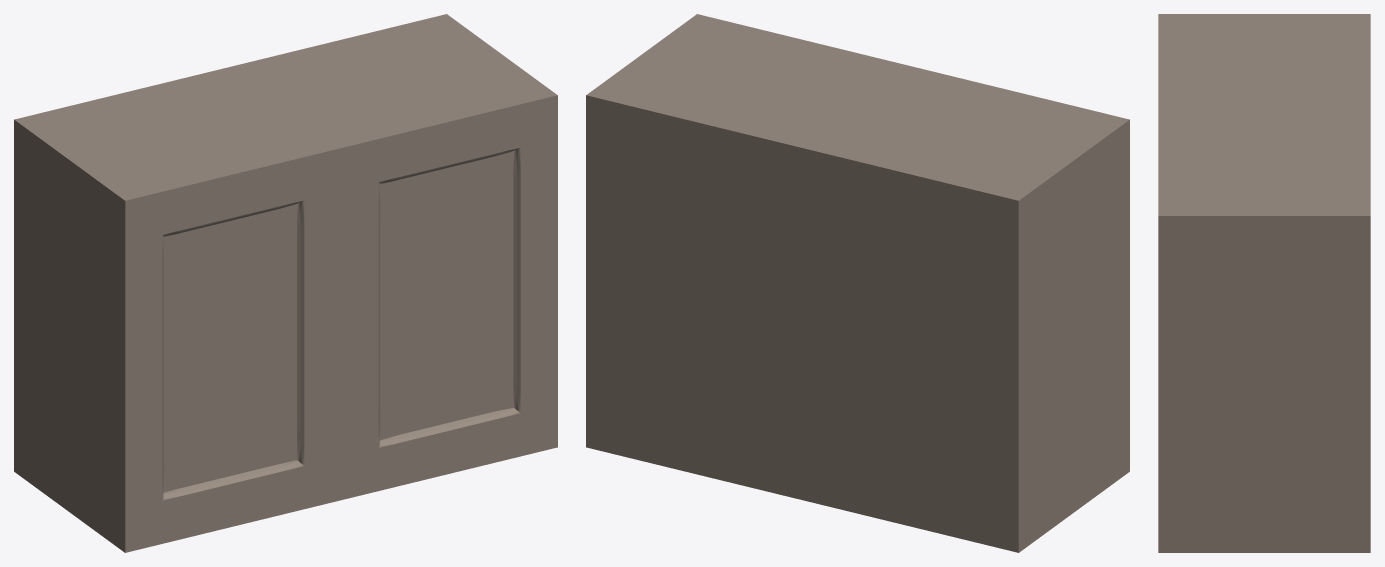
File: Wall-Cabinet-21-High-12-Deep_std_001_W27in.glb
3 views of the same model, side by side, from view 1: azimuth 30°, elevation 25°; view 2: azimuth 150°, elevation 25°; view 3: azimuth 270°, elevation 25° (orthographic). The views are drawn at different scales.
Parts seen in each view (by area): view 1: Wall-Cabinet-21-High-12-Deep.std.001_W27in; view 2: Wall-Cabinet-21-High-12-Deep.std.001_W27in; view 3: Wall-Cabinet-21-High-12-Deep.std.001_W27in.
Boxes of the visible parts, box(x1,y1,x2,y2) form: Wall-Cabinet-21-High-12-Deep.std.001_W27in: box(14, 14, 557, 552); Wall-Cabinet-21-High-12-Deep.std.001_W27in: box(586, 14, 1129, 552); Wall-Cabinet-21-High-12-Deep.std.001_W27in: box(1158, 14, 1370, 552).
Size of the model in its own units: 0.6858 by 0.5334 by 0.3048.
